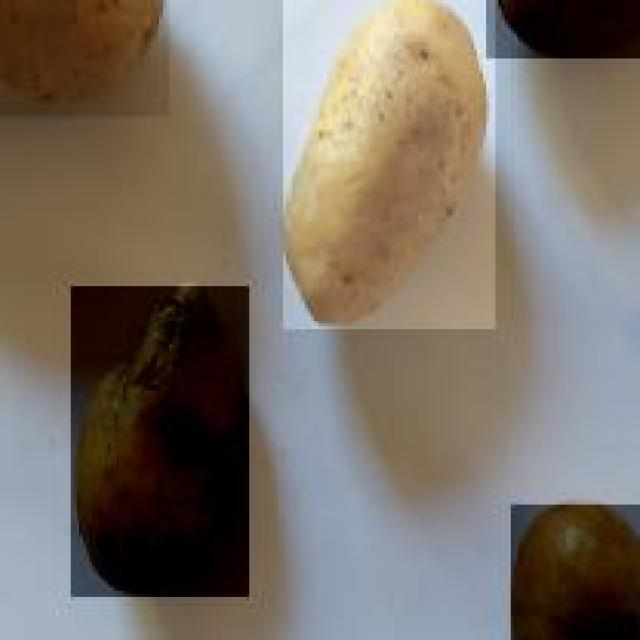potato: (280, 0, 495, 326), (70, 279, 252, 596), (505, 501, 640, 640)
